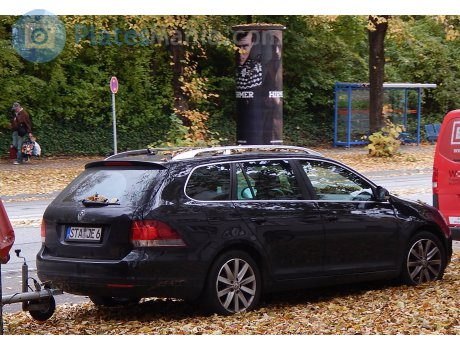License Plates: (67, 225, 102, 236)
